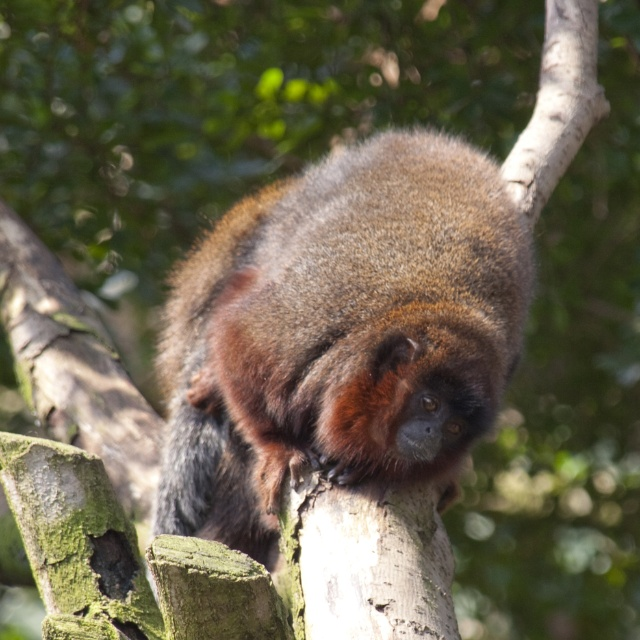Monkey: (144, 128, 537, 596)
